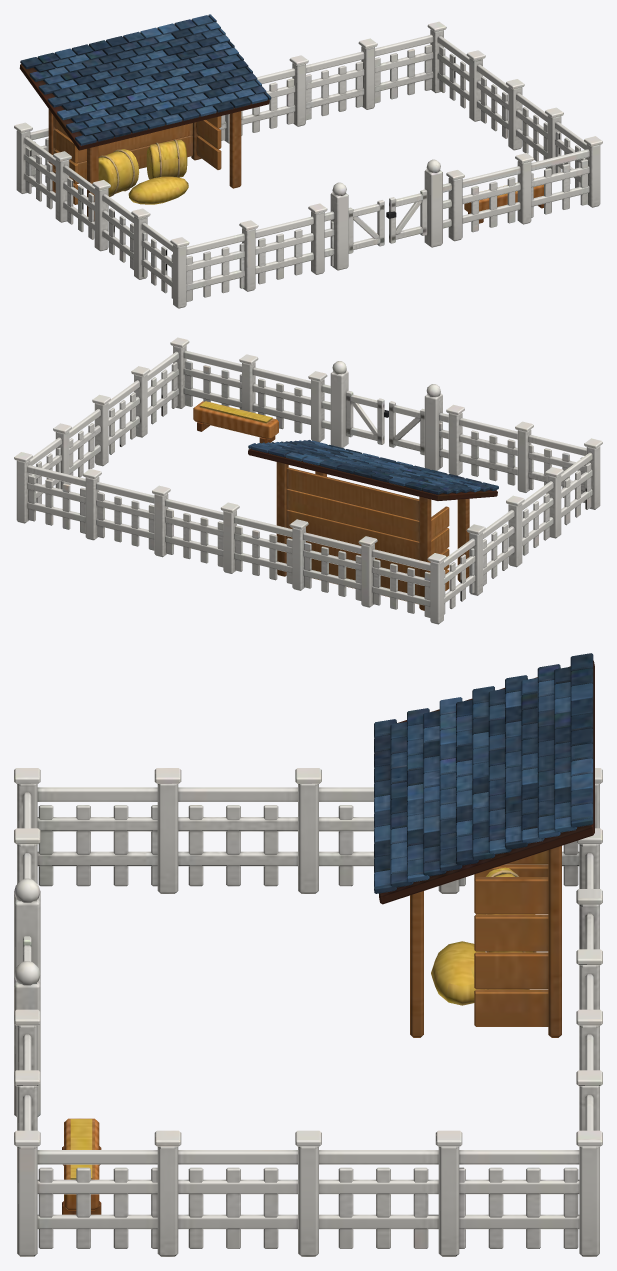
The model's file is valais_fold.glb.
3 renders of one model, top to bottom at view 1: azimuth 30°, elevation 25°; view 2: azimuth 150°, elevation 25°; view 3: azimuth 270°, elevation 25°, orthographic. The views are drawn at different scales.
Parts seen in each view (by area): view 1: valais_fold, gate1, gate0; view 2: valais_fold, gate1, gate0; view 3: valais_fold.
Part boxes in pixels (left/top/right/bottom): valais_fold: left=14, top=14, right=602, bottom=308; gate1: left=386, top=189, right=427, bottom=243; gate0: left=348, top=200, right=384, bottom=253; valais_fold: left=14, top=337, right=602, bottom=624; gate1: left=346, top=390, right=388, bottom=444; gate0: left=389, top=401, right=424, bottom=455; valais_fold: left=14, top=653, right=602, bottom=1256.
Size of the model in its own units: 2.99 by 0.9342 by 1.99.
1 material, 1 textured.
